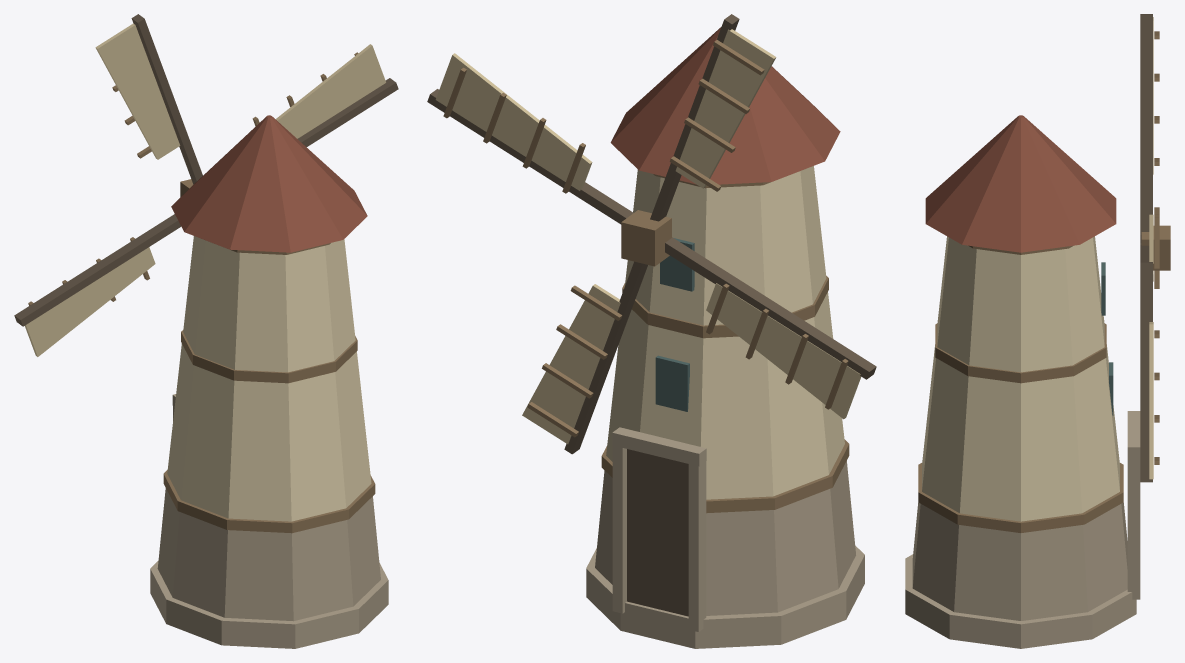
The model's file is Town_Windmill.fbx.
The picture shows the model from 3 angles, left to right: view 1: azimuth 30°, elevation 25°; view 2: azimuth 150°, elevation 25°; view 3: azimuth 270°, elevation 25°; orthographic projection. The views are drawn at different scales.
Visible parts, largest first — view 1: Town_Windmill; view 2: Town_Windmill; view 3: Town_Windmill.
Boxes of the visible parts, <box> form: Town_Windmill: <box>14,14,398,648</box>; Town_Windmill: <box>427,14,876,648</box>; Town_Windmill: <box>905,14,1170,648</box>.
Size of the model in its own units: 5.14 by 7.17 by 3.12.
